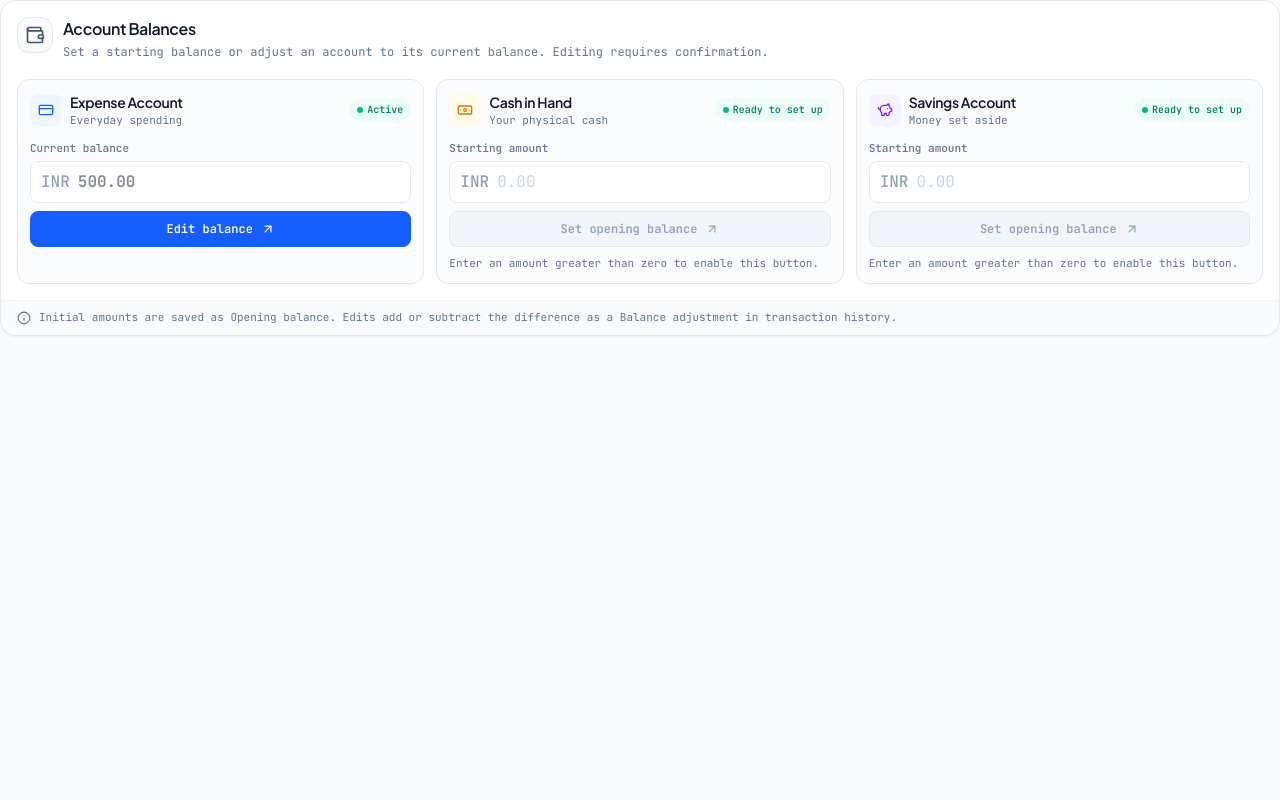
Opening balances › keeps editing enabled with the entered amount when an update fails
Click the button "Edit balance".
click(221, 228)  # box [30,210,411,246]
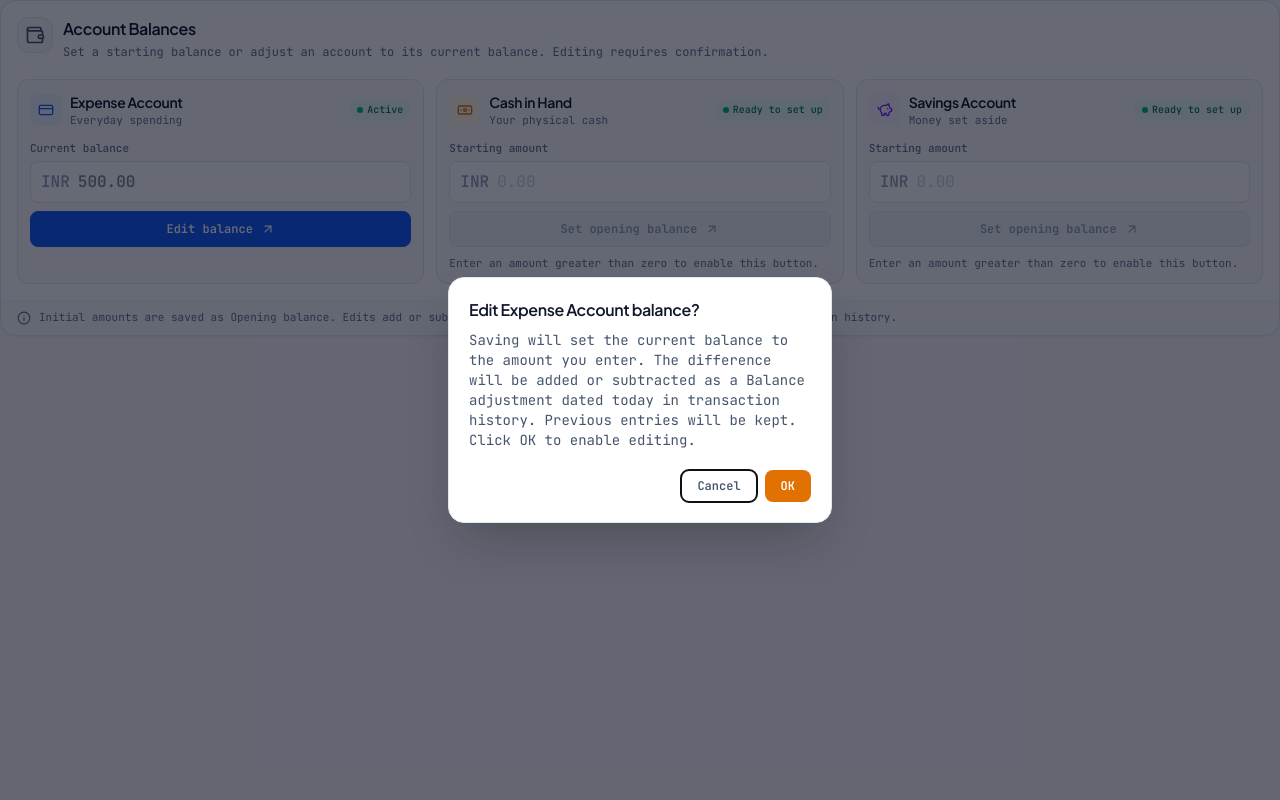
Click the button "OK".
click(788, 486)  # box [765,470,811,502]
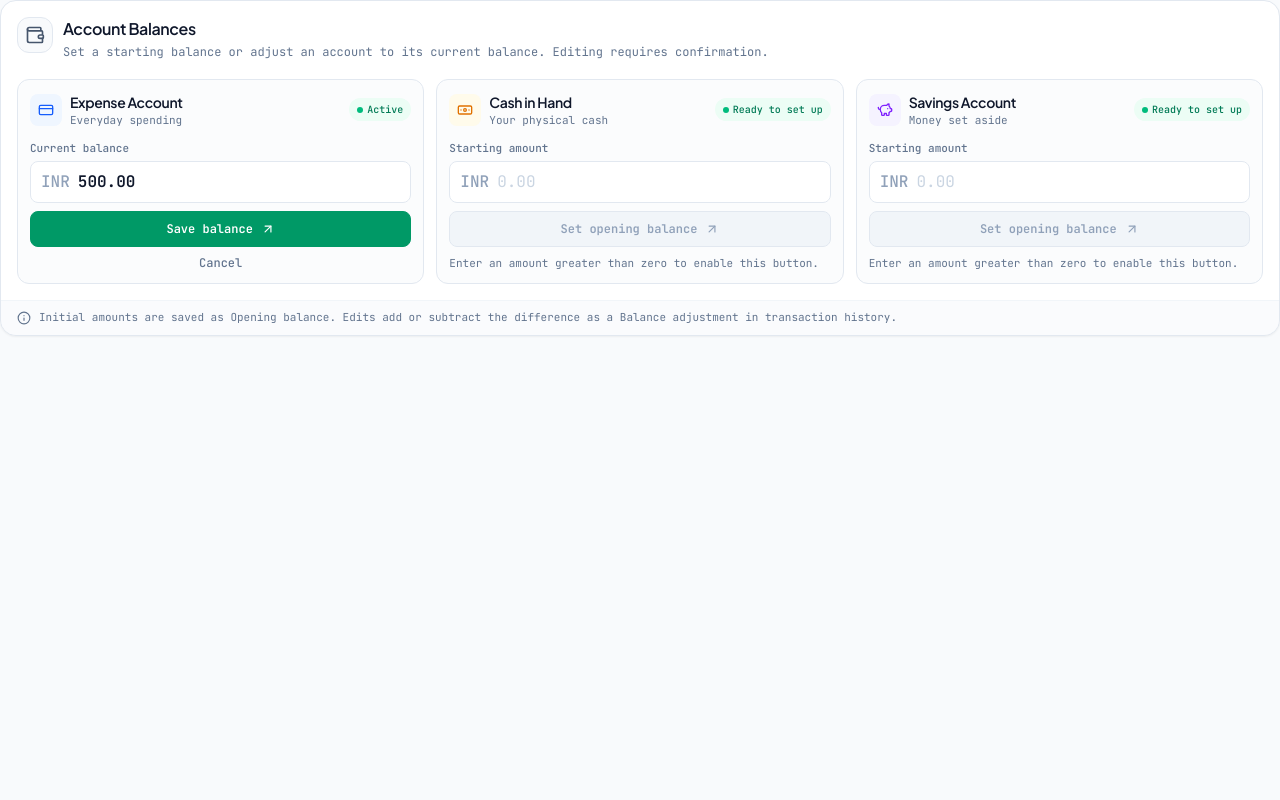
Replace the text in the number field named "Expense Account opening balance" with "800" at x=239, y=182, box [78,162,400,202]
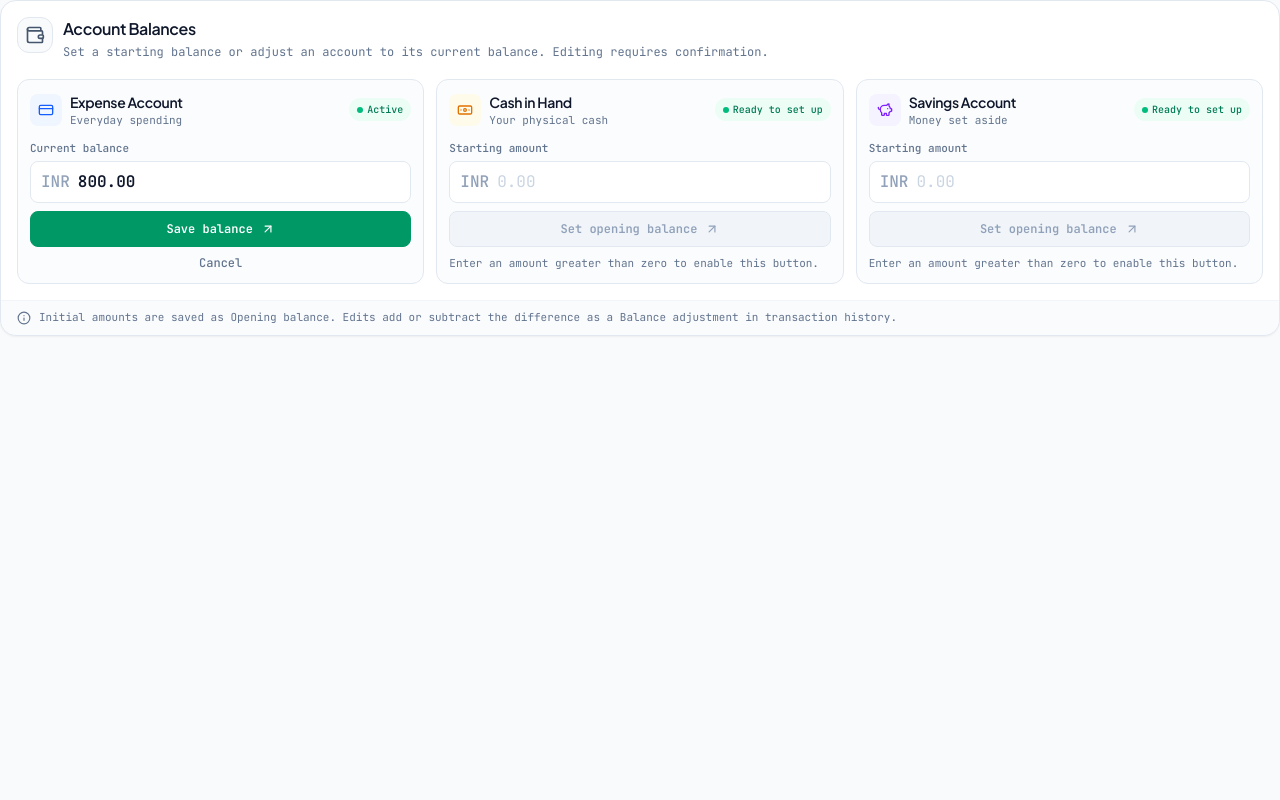
Click the button "Save balance".
click(221, 228)  # box [30,210,411,246]
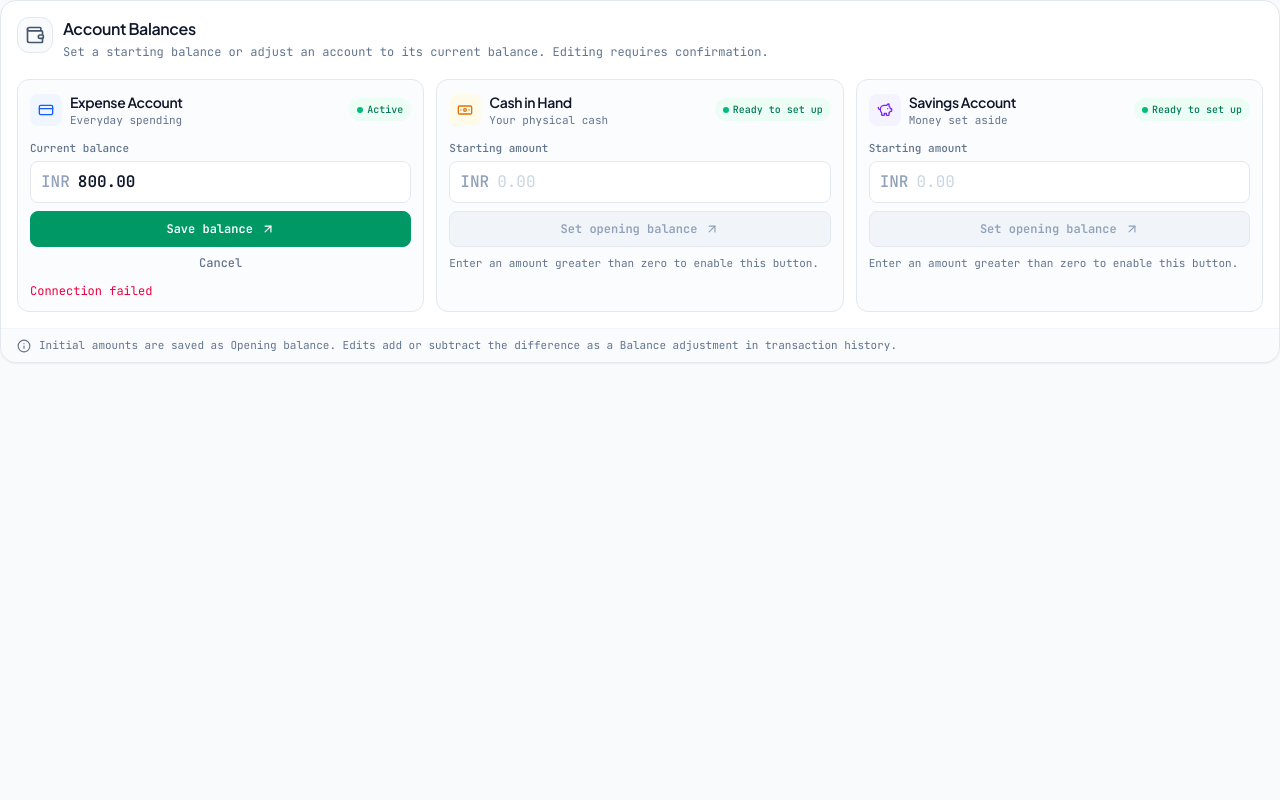
Expected: the number field named "Expense Account opening balance" is enabled, [78,162,400,202]
Expected: the message reads "Connection failed", [30,282,152,298]
